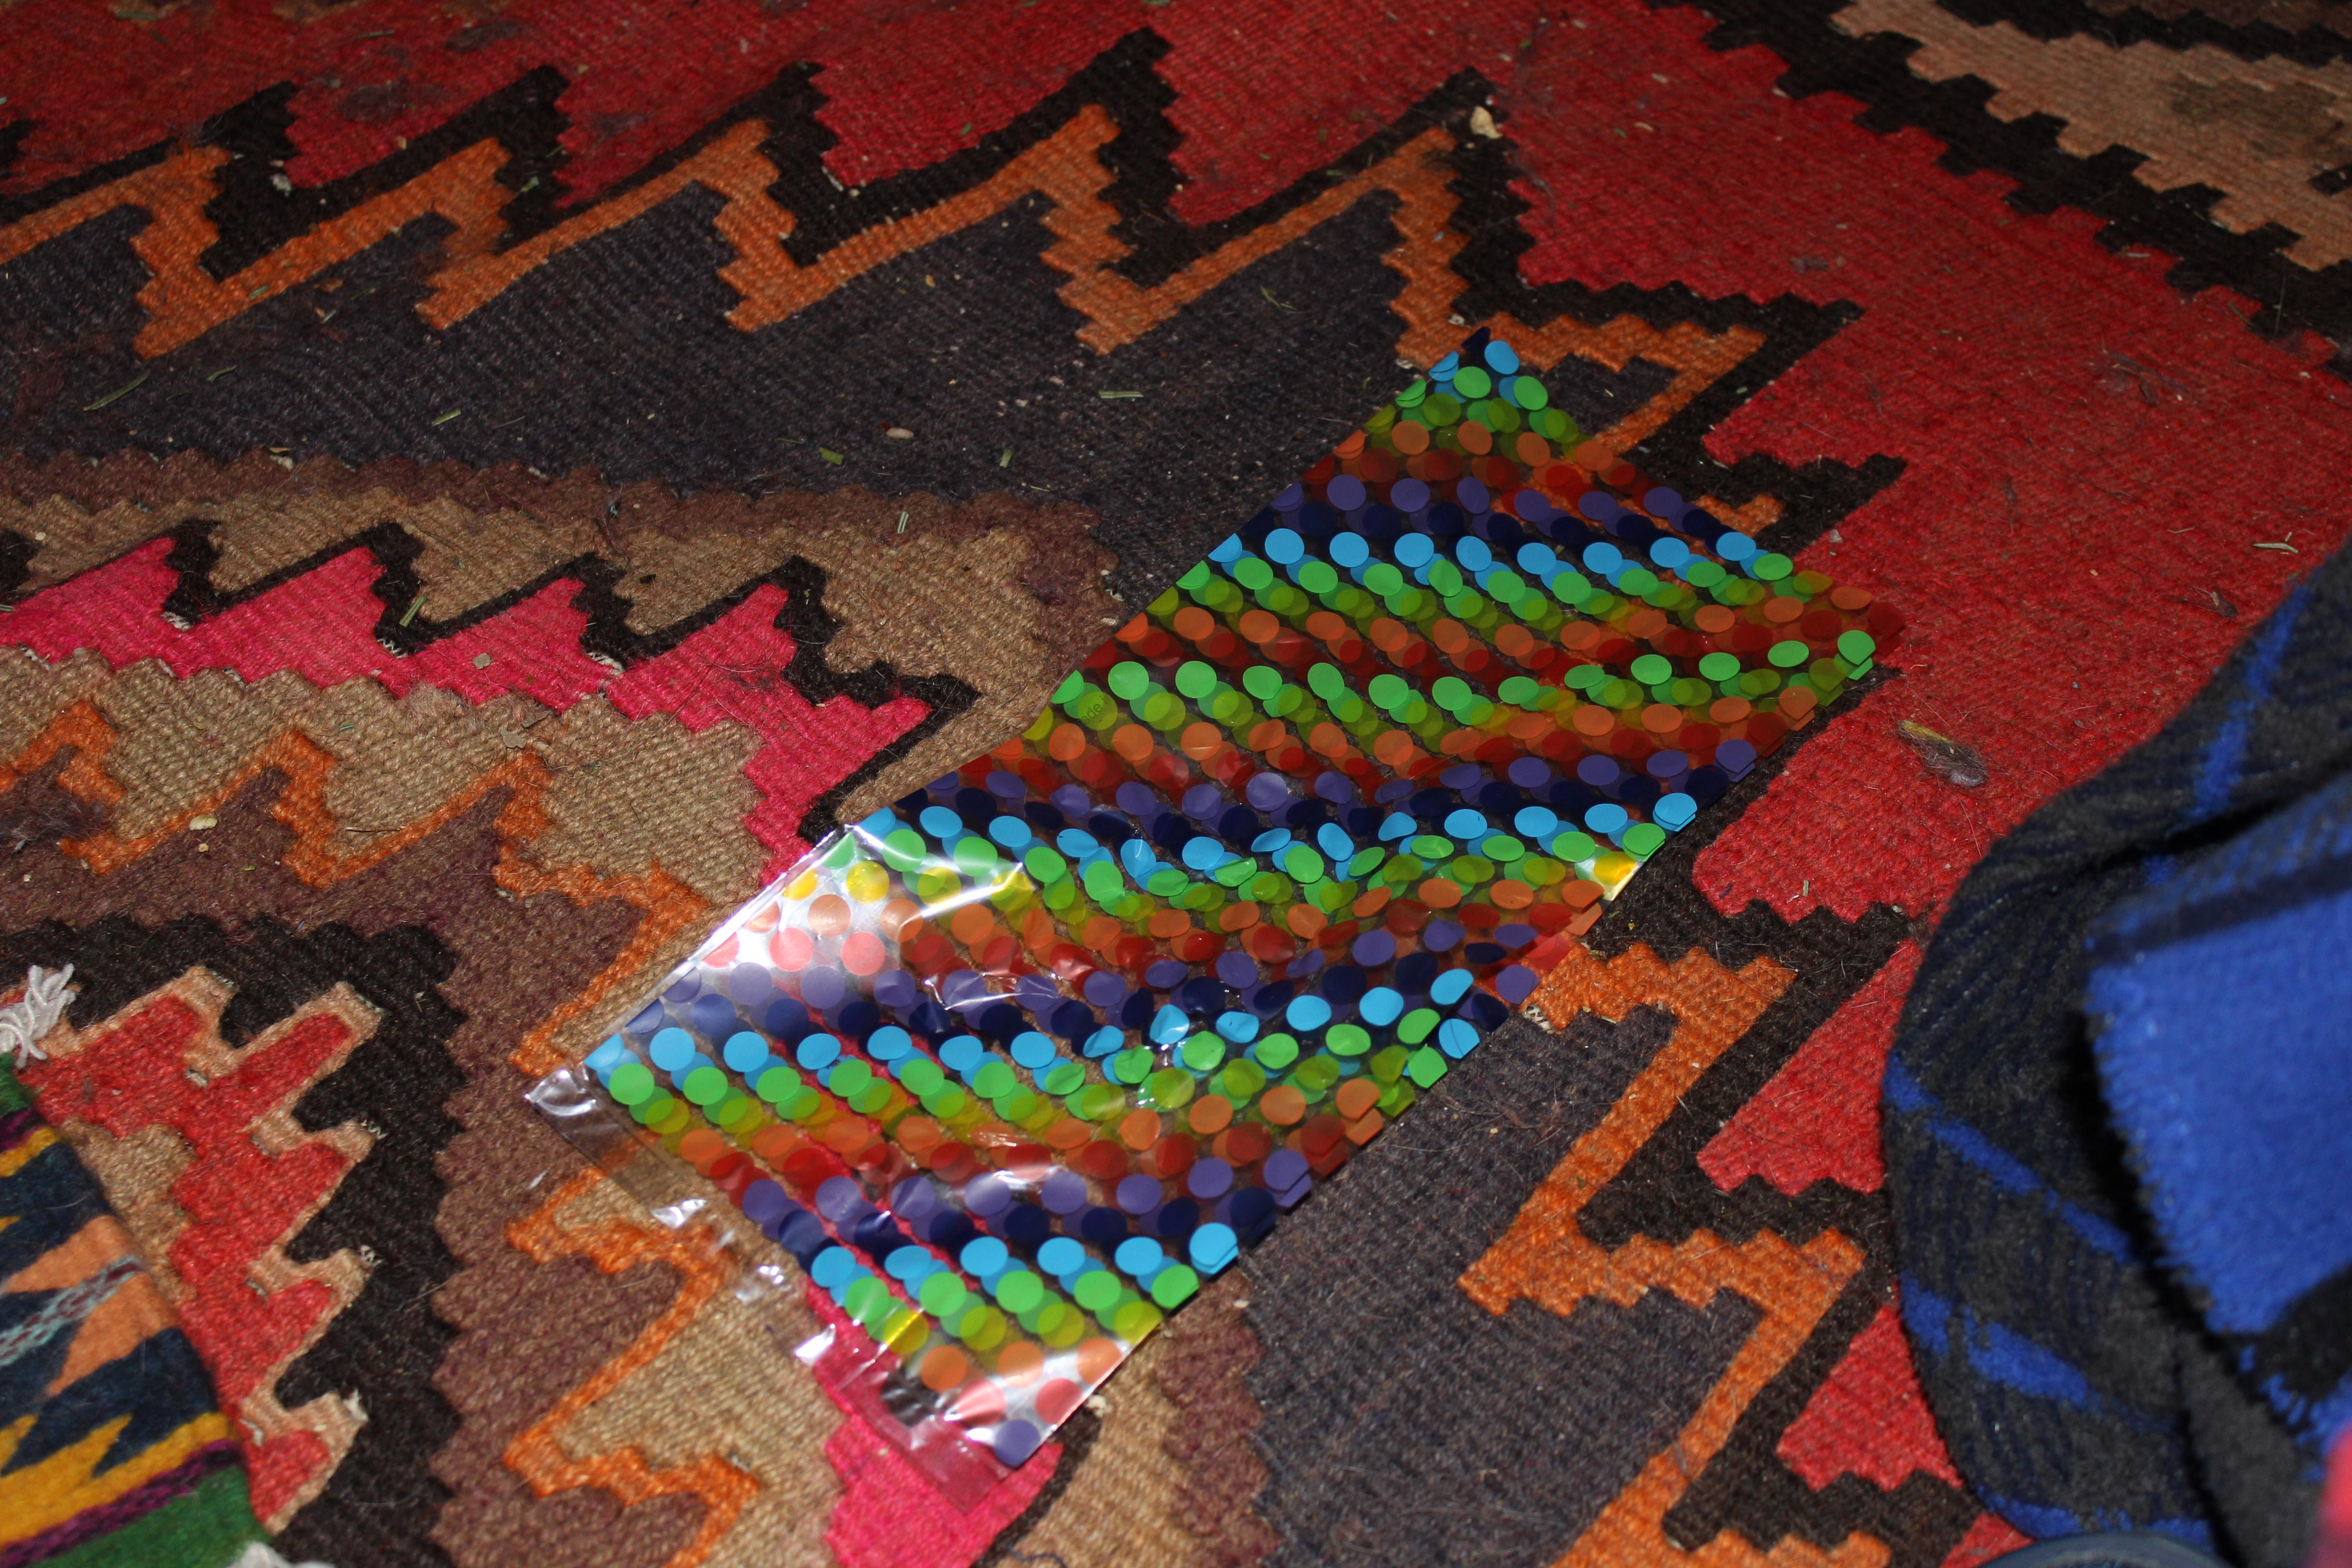giftBag: (490, 287, 1932, 1530)
